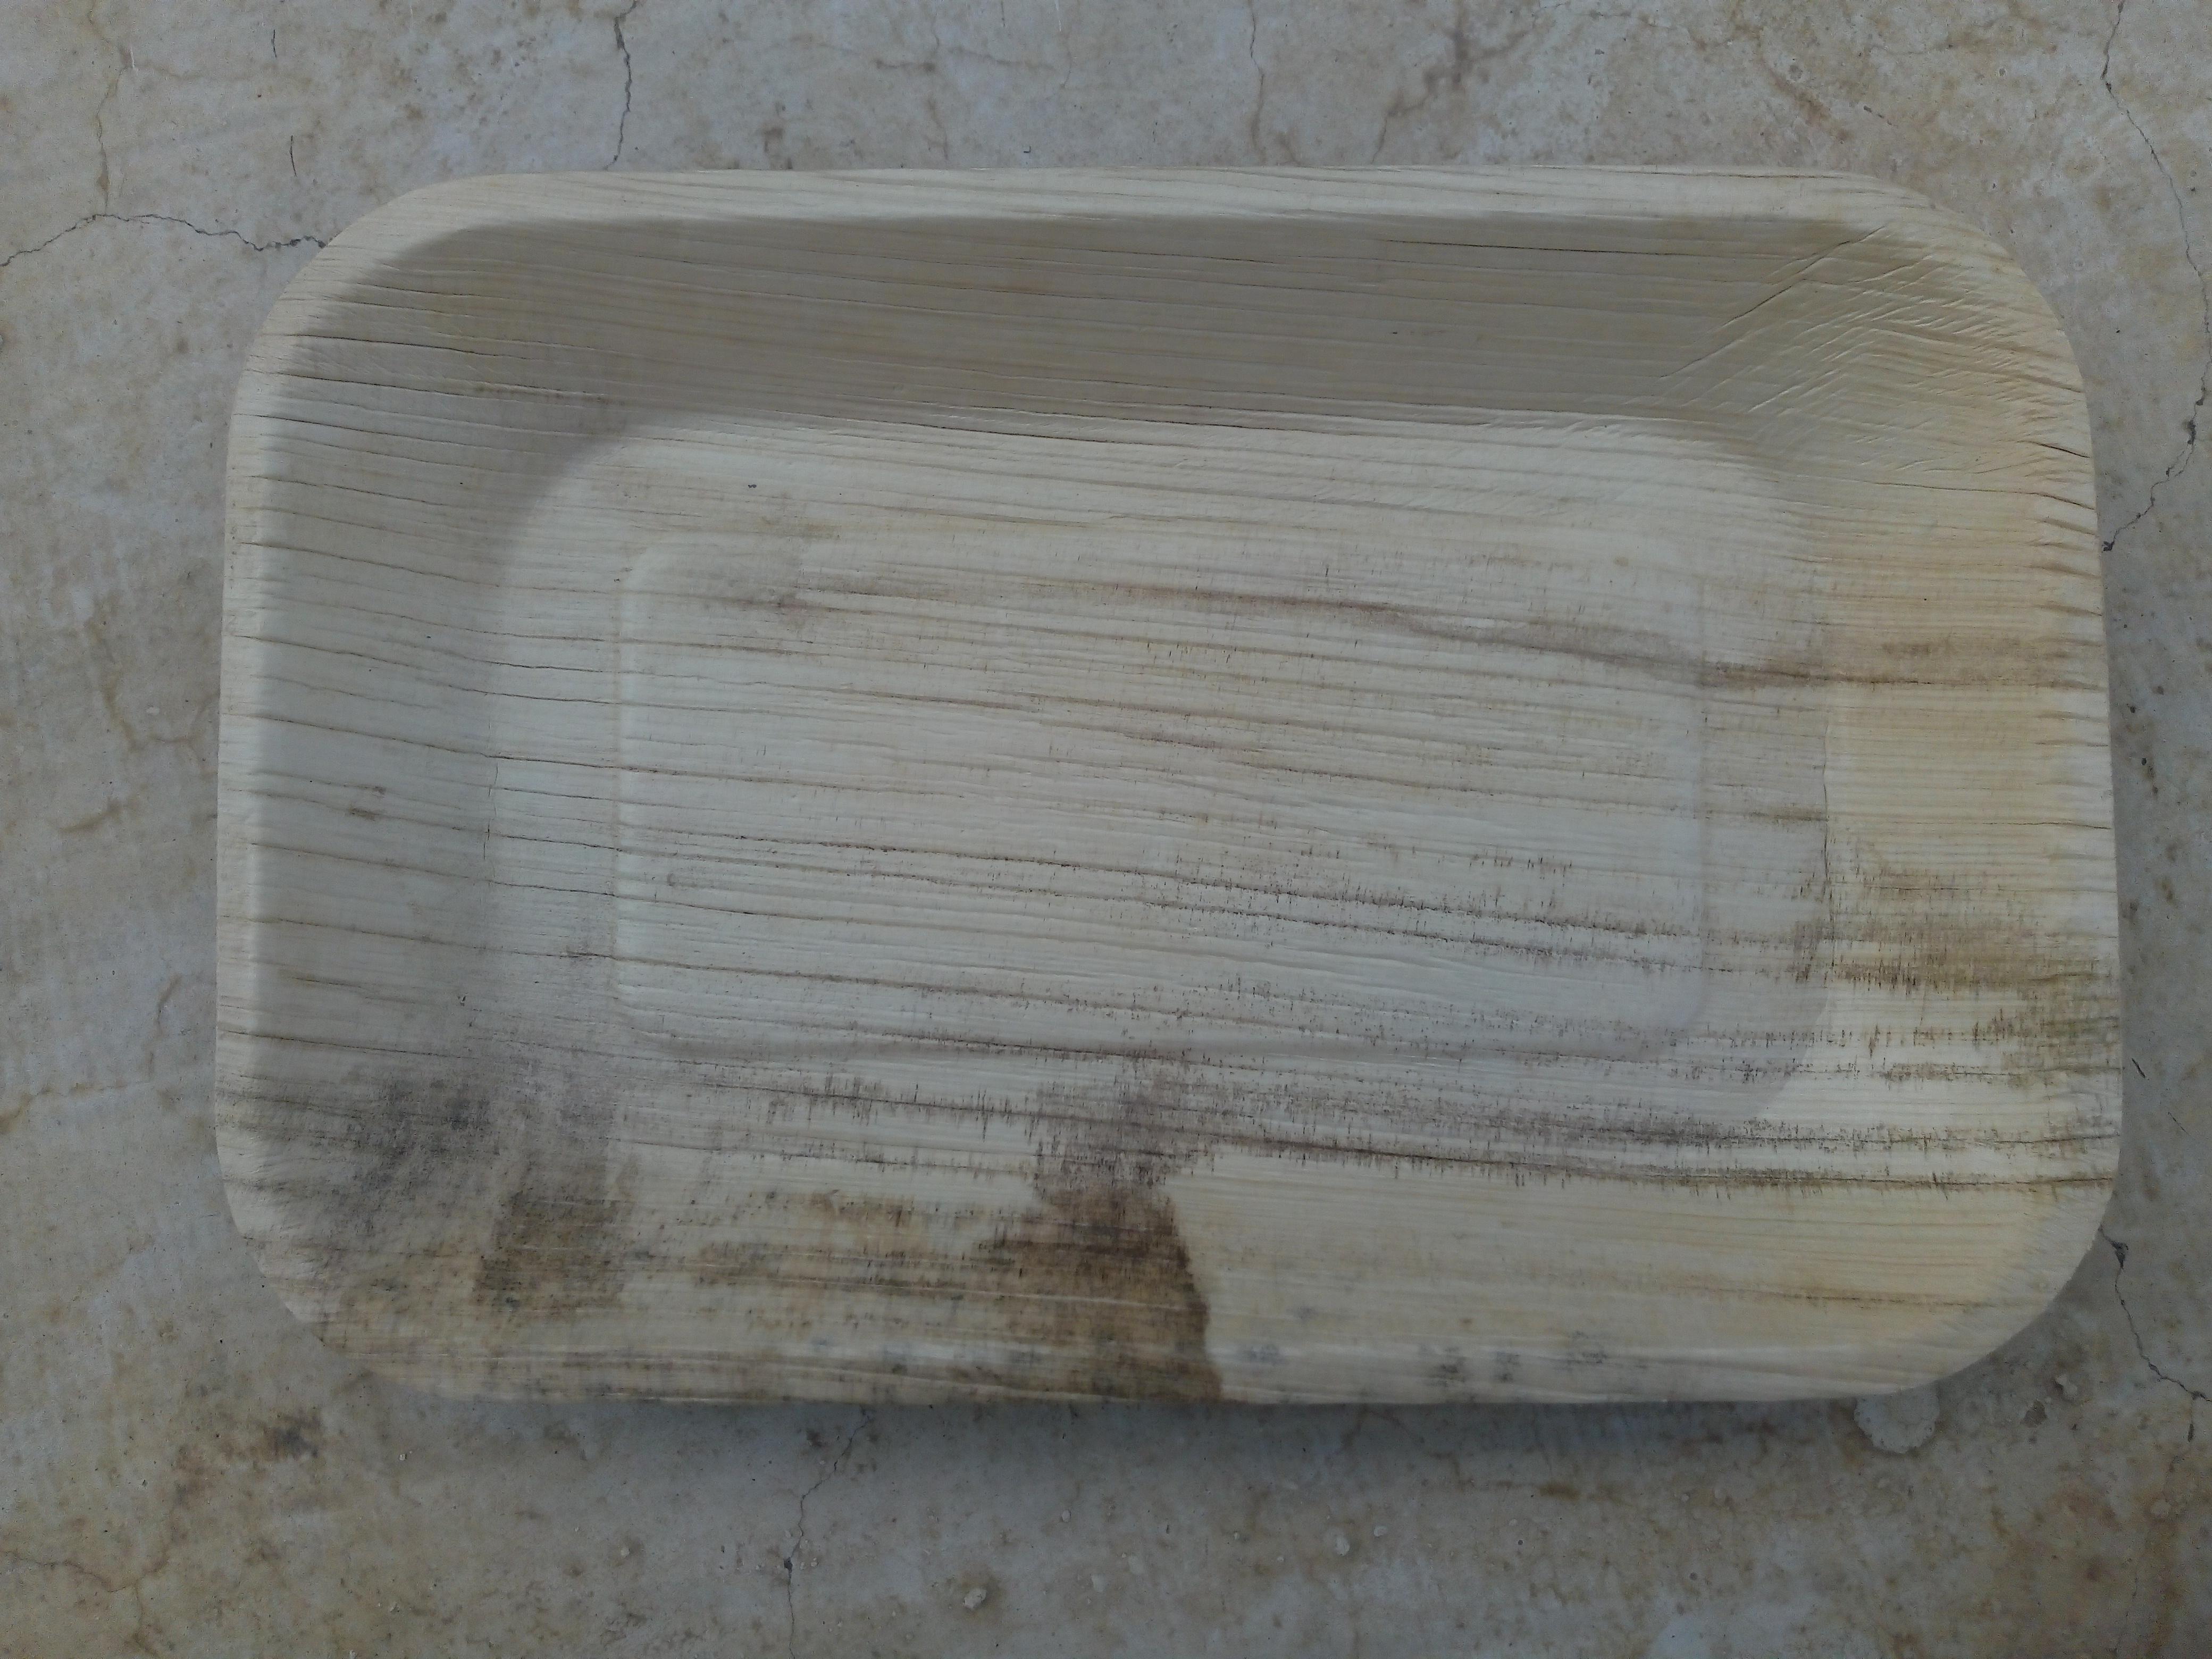areca plate: (221, 160, 2130, 1368)
